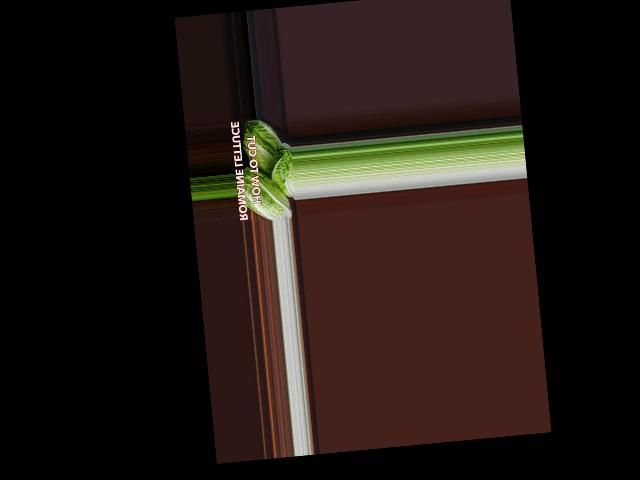lettuce: (235, 114, 288, 183)
